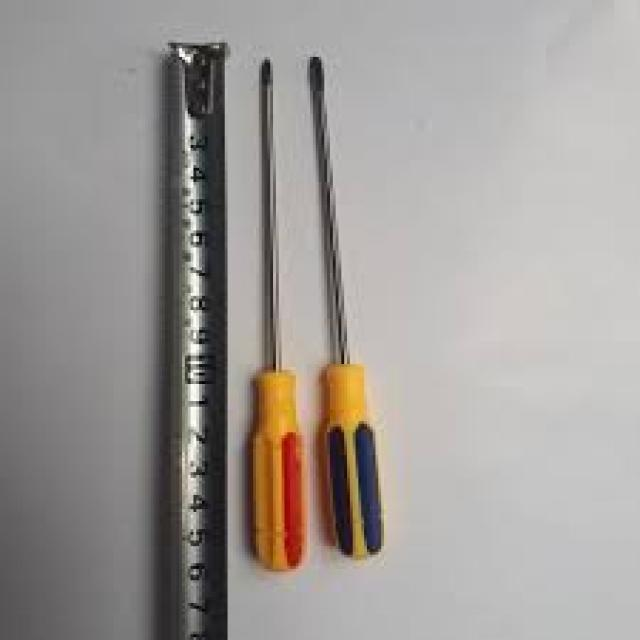screwdriver: (307, 54, 387, 563), (240, 48, 309, 572)
